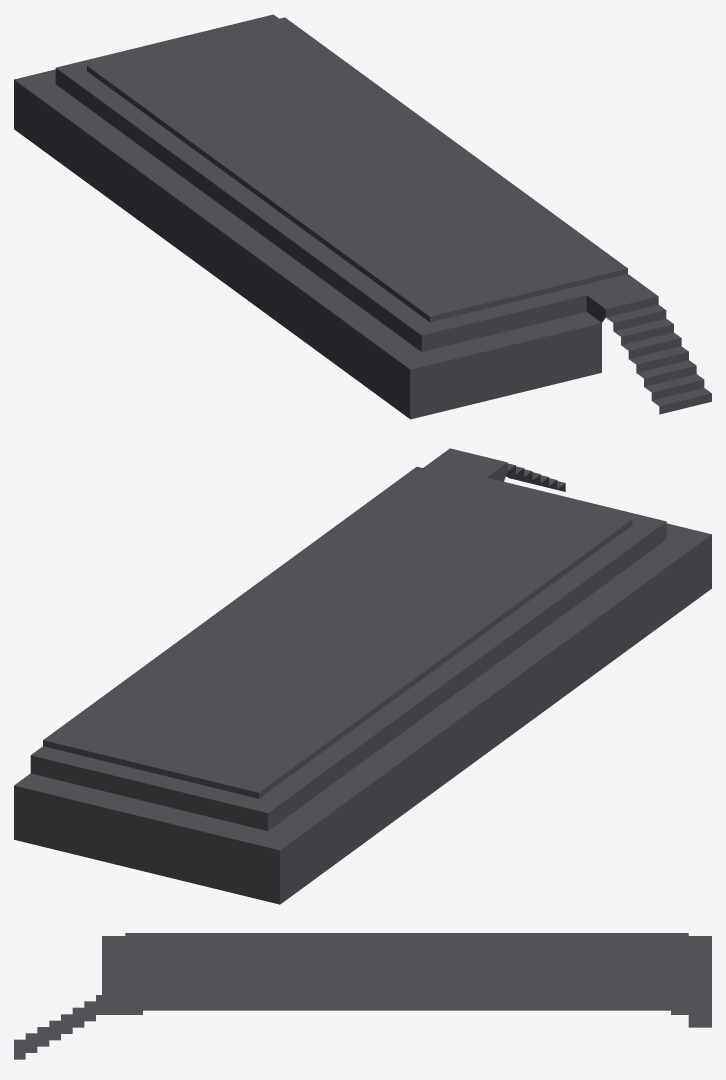
File: church1_finalA.gltf
3 renders of one model, top to bottom at view 1: azimuth 30°, elevation 25°; view 2: azimuth 150°, elevation 25°; view 3: azimuth 270°, elevation 25°, orthographic. The views are drawn at different scales.
Visible parts, largest first — view 1: church1_build_baseA; view 2: church1_build_baseA; view 3: church1_build_baseA.
Part boxes in pixels (<box>): church1_build_baseA: <box>14,14,711,419</box>; church1_build_baseA: <box>14,448,711,904</box>; church1_build_baseA: <box>14,933,711,1059</box>.
Size of what is drawn, in the model's own units: 9.25 by 2.6 by 29.75.
1 material, 1 textured.
